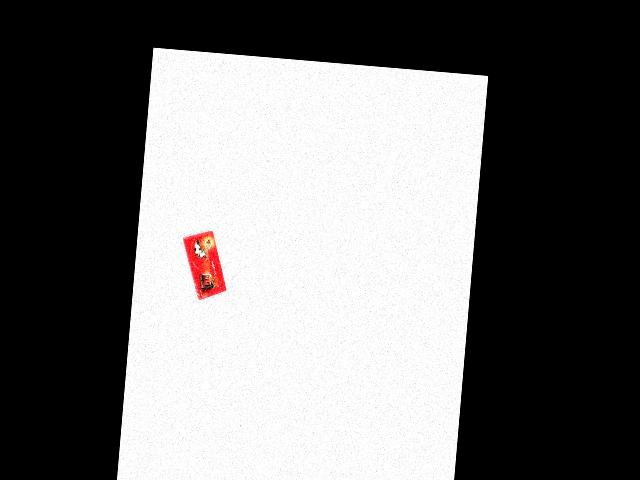chocolate: (177, 230, 232, 303)
